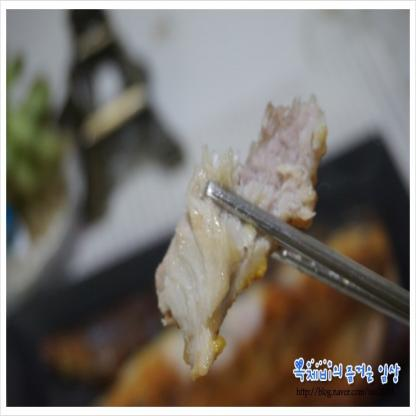Peixe: (139, 100, 347, 352), (50, 308, 393, 397)
